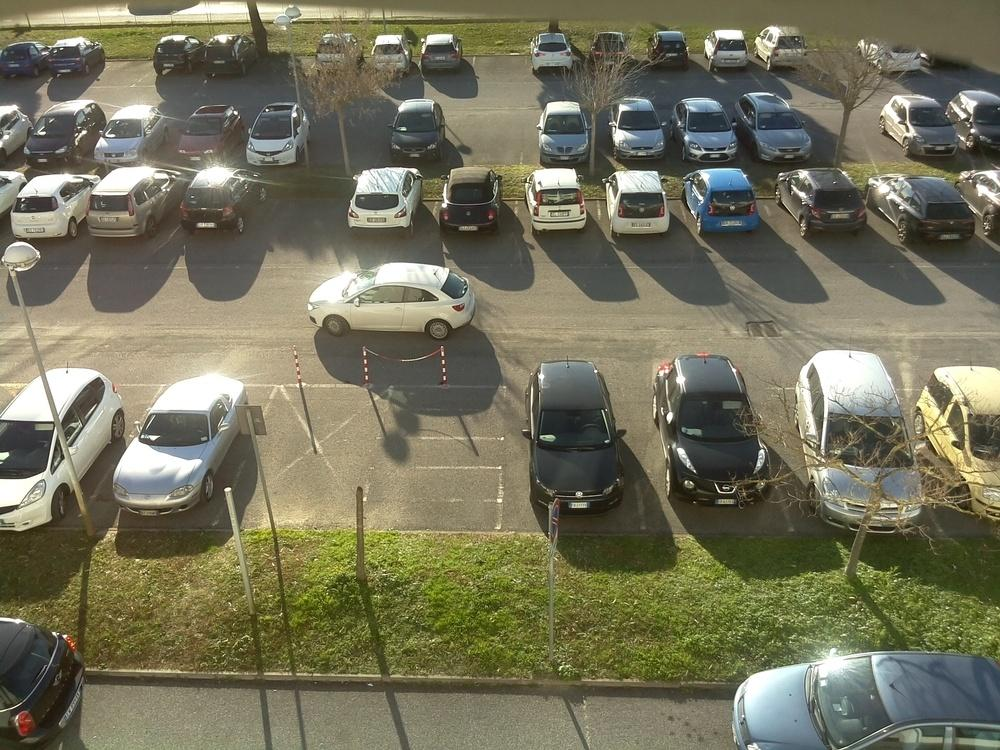empty: (784, 349, 945, 533), (744, 650, 1000, 750), (653, 354, 794, 506), (110, 375, 246, 518), (3, 367, 114, 530), (528, 357, 635, 512), (310, 266, 472, 357), (1, 613, 80, 749), (871, 173, 984, 246), (926, 369, 997, 484), (79, 170, 176, 241), (875, 96, 975, 160), (782, 170, 876, 237), (739, 89, 824, 162), (5, 172, 89, 245), (682, 172, 774, 238), (339, 163, 423, 235), (431, 167, 514, 237), (173, 171, 257, 238), (670, 92, 750, 161), (92, 104, 172, 168), (238, 106, 318, 170), (598, 97, 674, 163), (603, 176, 678, 239), (25, 104, 101, 166), (531, 100, 602, 165), (379, 102, 450, 164), (524, 171, 591, 232), (173, 108, 246, 162), (31, 36, 104, 82), (195, 33, 265, 78), (858, 30, 924, 77), (955, 94, 1000, 152), (968, 169, 999, 250), (702, 30, 754, 74), (415, 35, 469, 75), (154, 35, 204, 75), (754, 26, 805, 65), (528, 35, 577, 75), (0, 42, 47, 83), (582, 33, 632, 70), (1, 110, 30, 166), (649, 31, 693, 67)
occupied: (248, 636, 588, 750), (249, 170, 346, 237), (808, 93, 884, 162), (466, 31, 533, 82), (800, 28, 867, 74), (457, 119, 532, 160), (97, 34, 159, 80), (257, 34, 318, 78)
